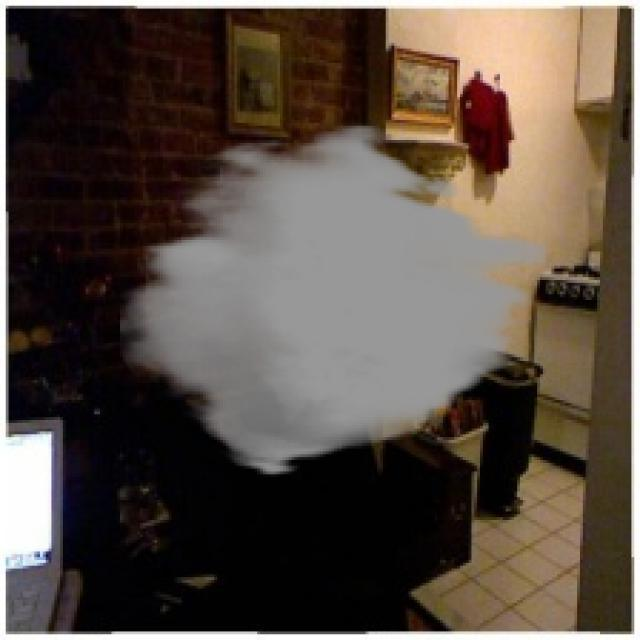Smoke: (120, 122, 546, 478)
